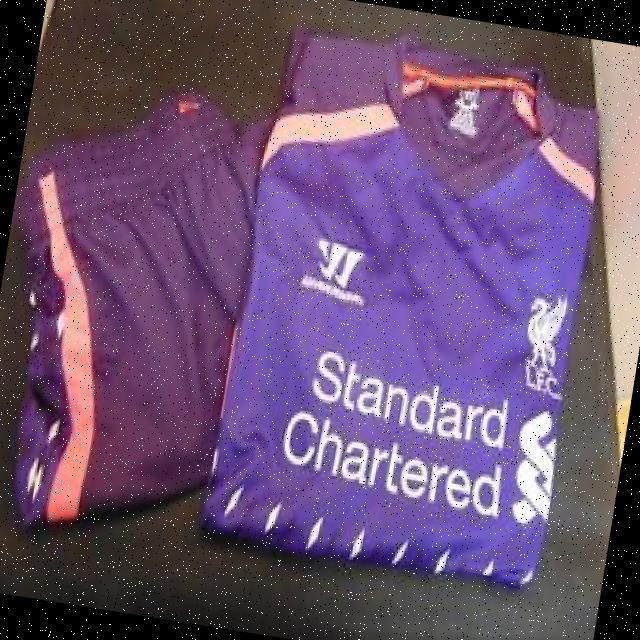Standard Chartered: (275, 344, 569, 538)
